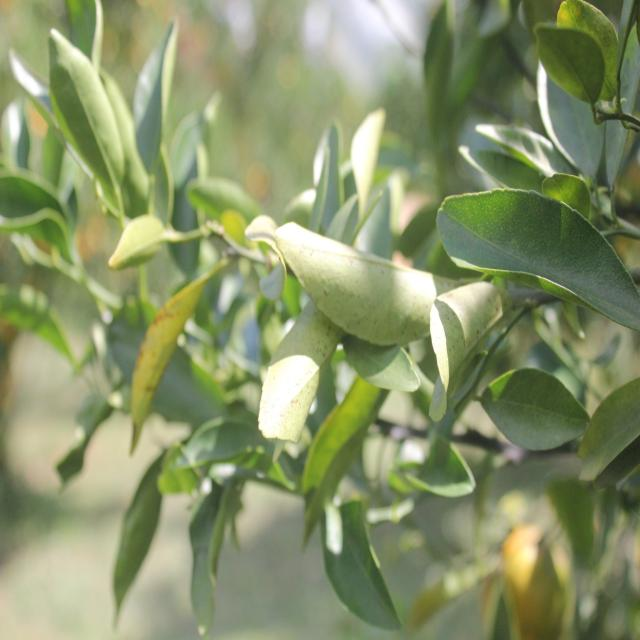melanose: (292, 217, 447, 348), (110, 282, 193, 448), (428, 292, 502, 385)
